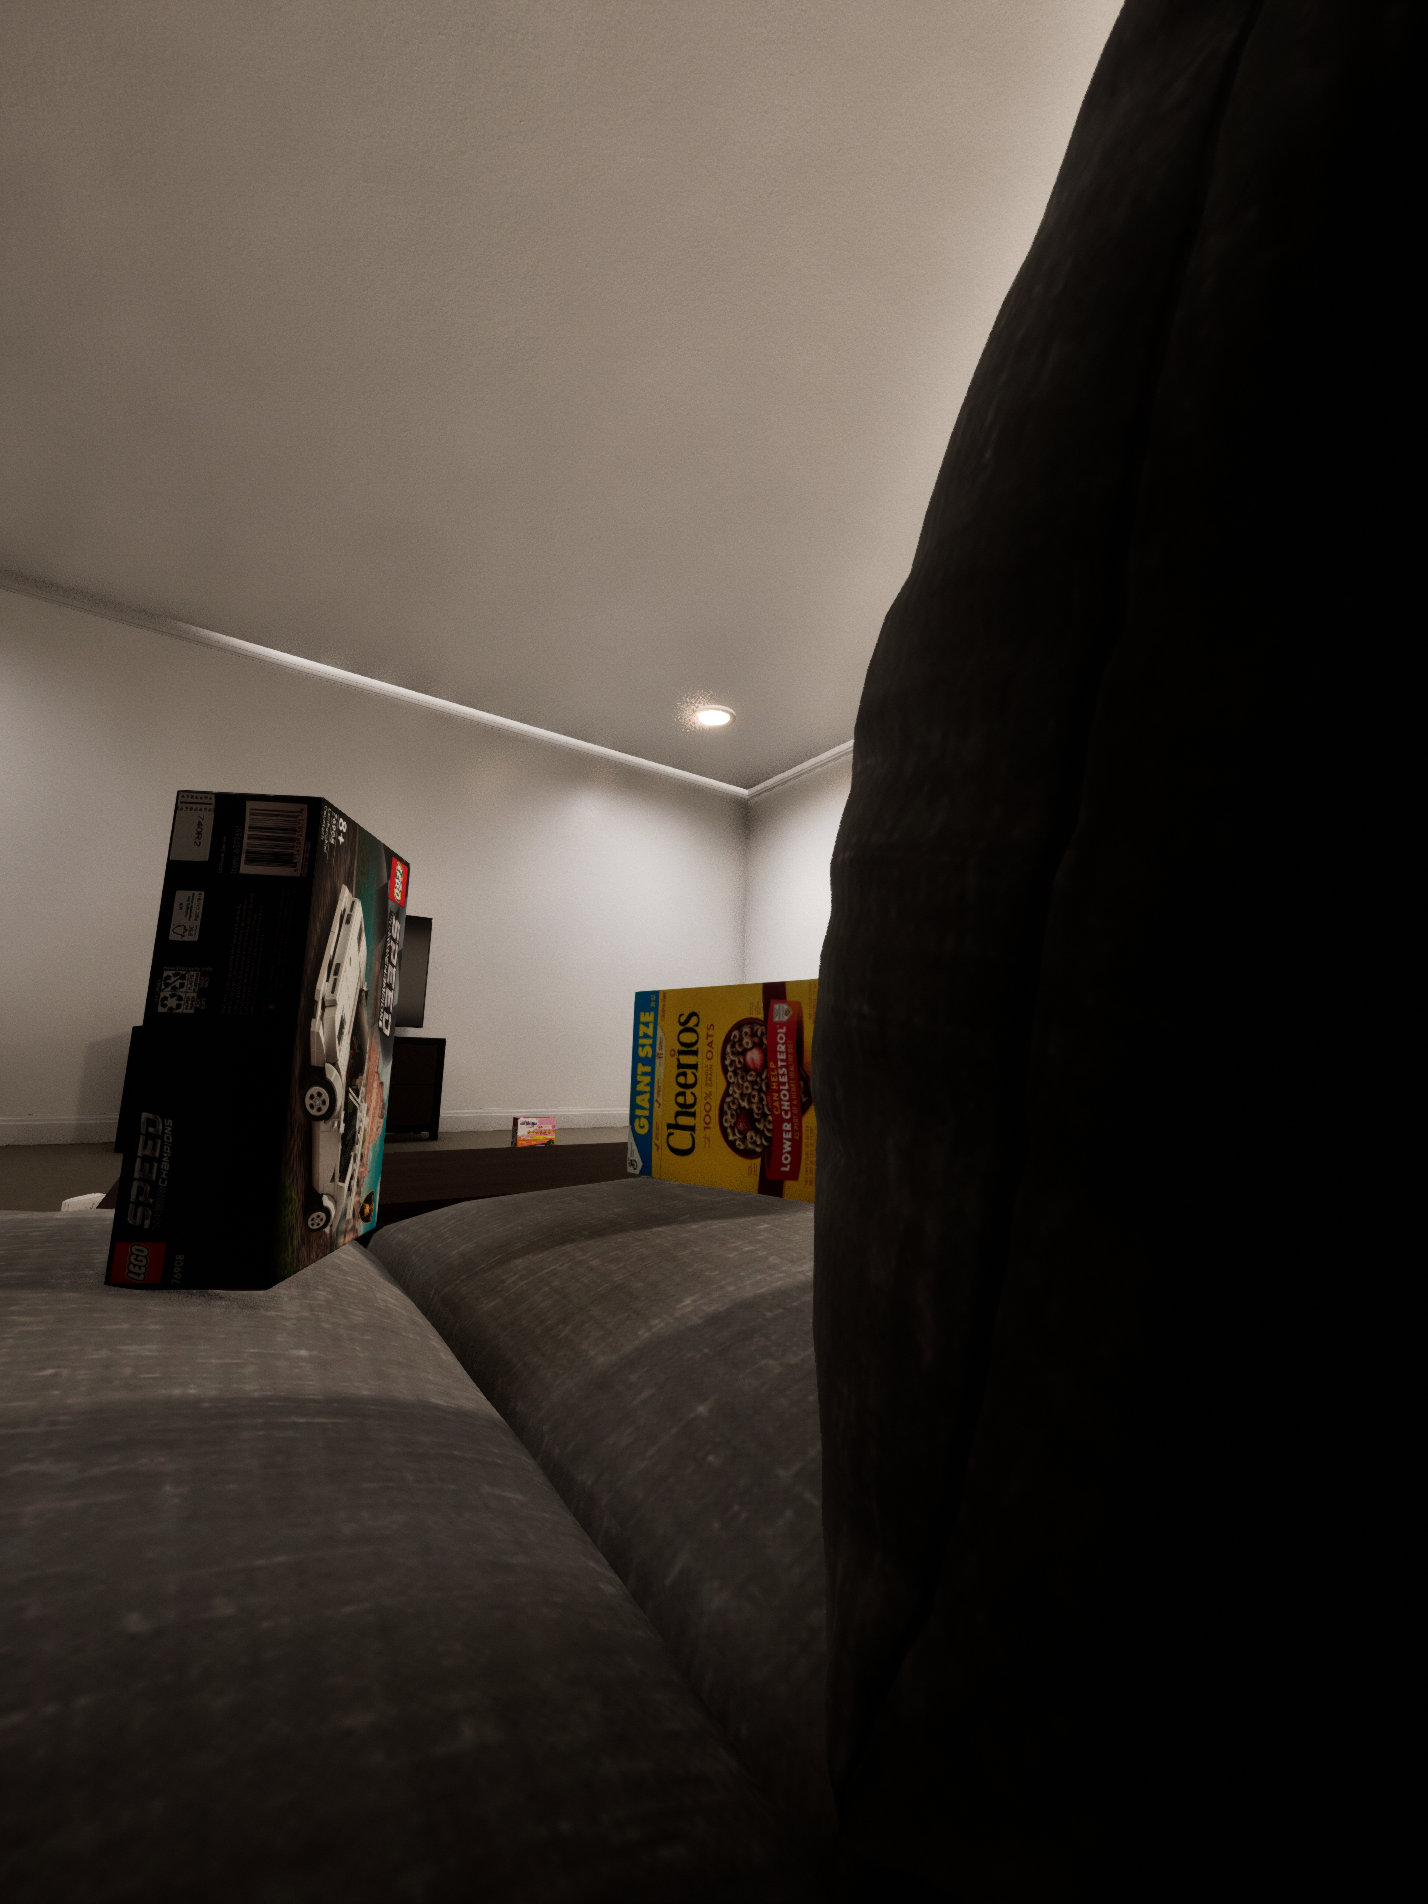cheerios: (627, 979, 817, 1202)
